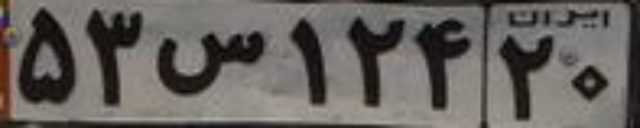0: (567, 63, 612, 103)
1: (288, 18, 327, 104)
2: (346, 16, 400, 108), (499, 33, 553, 121)
3: (85, 8, 142, 104)
4: (415, 18, 472, 111)
5: (15, 6, 80, 105)
sin: (151, 29, 269, 96)
